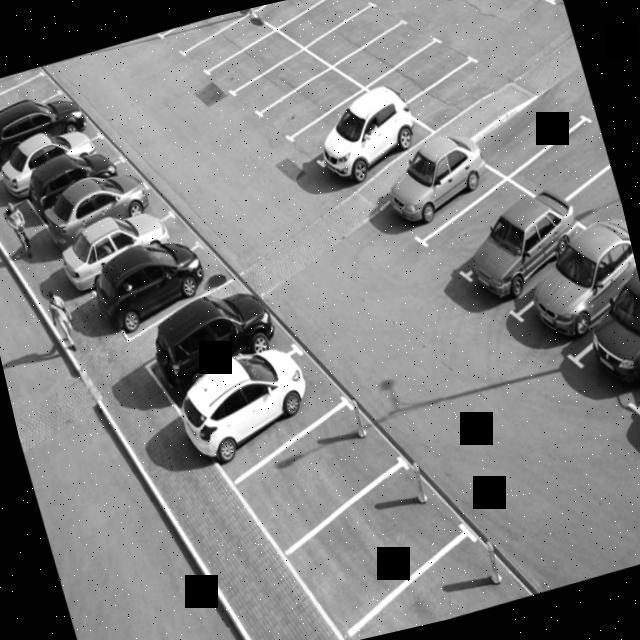car: (278, 470, 474, 630), (238, 399, 411, 536), (176, 329, 342, 470), (348, 523, 535, 638), (510, 235, 640, 361), (440, 197, 577, 313), (86, 232, 226, 343), (150, 278, 284, 386), (365, 138, 487, 250), (305, 94, 422, 190), (570, 270, 640, 417), (52, 170, 168, 258), (74, 208, 190, 290), (7, 122, 118, 198), (0, 94, 101, 169), (33, 150, 141, 217)
free: (404, 174, 534, 286), (477, 87, 587, 171), (510, 127, 616, 207), (259, 66, 359, 150), (202, 24, 302, 106), (284, 94, 382, 176), (229, 43, 324, 124), (369, 31, 466, 102), (182, 12, 269, 88), (310, 0, 407, 68), (411, 62, 499, 134), (346, 18, 435, 87), (281, 0, 385, 53), (559, 160, 626, 237), (0, 83, 82, 145), (162, 10, 250, 62), (0, 70, 66, 131), (0, 65, 49, 112), (514, 0, 565, 20)
